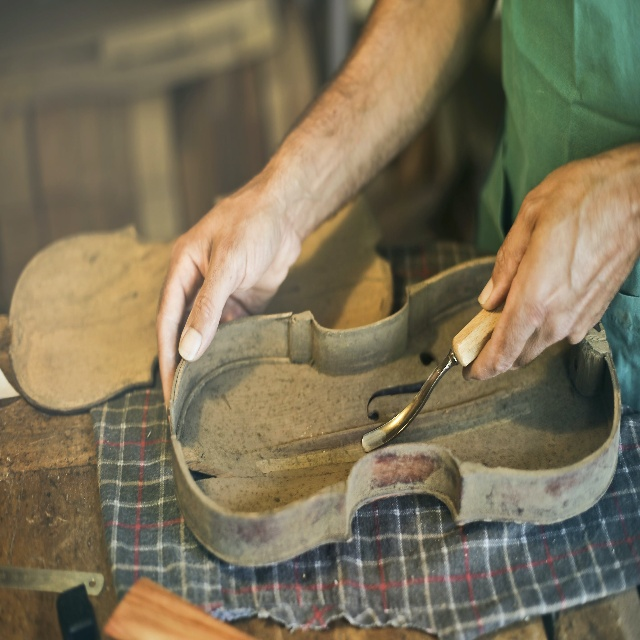Sin_guantes: (462, 143, 638, 383), (155, 182, 301, 411)
